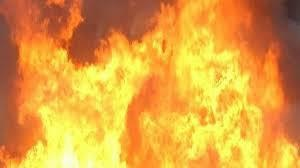fire: (1, 1, 288, 166)
